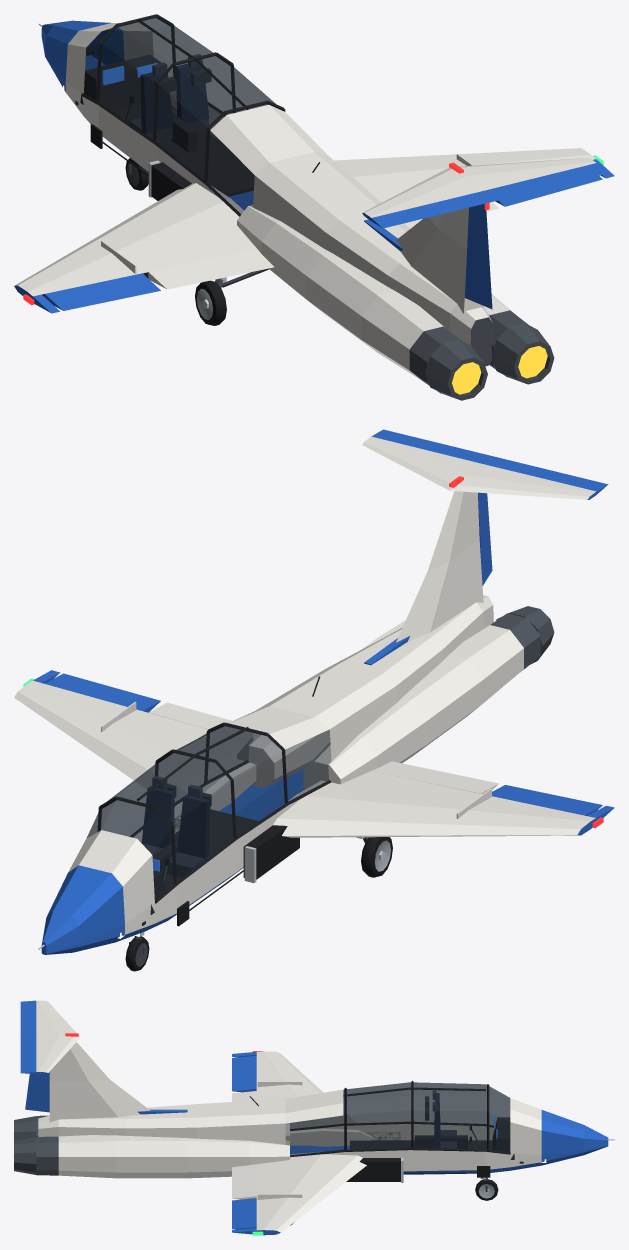
The model's file is plane_jet.glb.
3 views of the same model, one above another, from view 1: azimuth 30°, elevation 25°; view 2: azimuth 150°, elevation 25°; view 3: azimuth 270°, elevation 25° (orthographic). The views are drawn at different scales.
Visible parts, largest first — view 1: Body, Elevator, Rudder, Aileron_L, Wheel_RL, Aileron_R; view 2: Body, Elevator, Aileron_R, Aileron_L, Wheel_RL, Rudder; view 3: Body, Elevator, Aileron_L, Rudder, Aileron_R, Wheel_F.
Boxes of the visible parts, x1,y1,x2,y2 form: Body: [14, 14, 614, 400]; Elevator: [371, 163, 608, 228]; Rudder: [464, 204, 492, 309]; Aileron_L: [44, 273, 160, 310]; Wheel_RL: [195, 280, 226, 325]; Aileron_R: [495, 176, 602, 206]; Body: [14, 436, 614, 955]; Elevator: [371, 429, 608, 494]; Aileron_R: [45, 673, 160, 712]; Aileron_L: [492, 785, 602, 815]; Wheel_RL: [361, 837, 392, 877]; Rudder: [478, 492, 492, 585]; Body: [14, 1000, 614, 1235]; Elevator: [20, 1000, 36, 1074]; Aileron_L: [232, 1056, 256, 1092]; Rudder: [25, 1072, 49, 1112]; Aileron_R: [232, 1198, 256, 1229]; Wheel_F: [475, 1179, 498, 1200].
Size of the model in its own units: 9.65 by 4.12 by 13.5.
